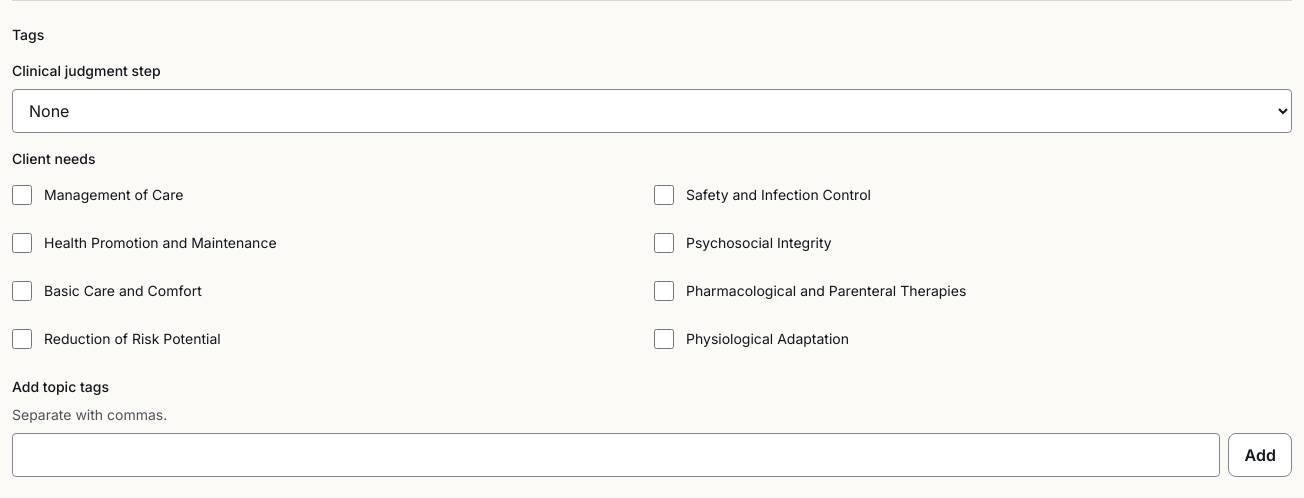
Test: TagFields › files a typed client need under client needs, in its fixed spelling
Type "physiological adaptation" into the field labelled "Add topic tags" at (616, 455), box x1=12 y1=433 x2=1220 y2=477
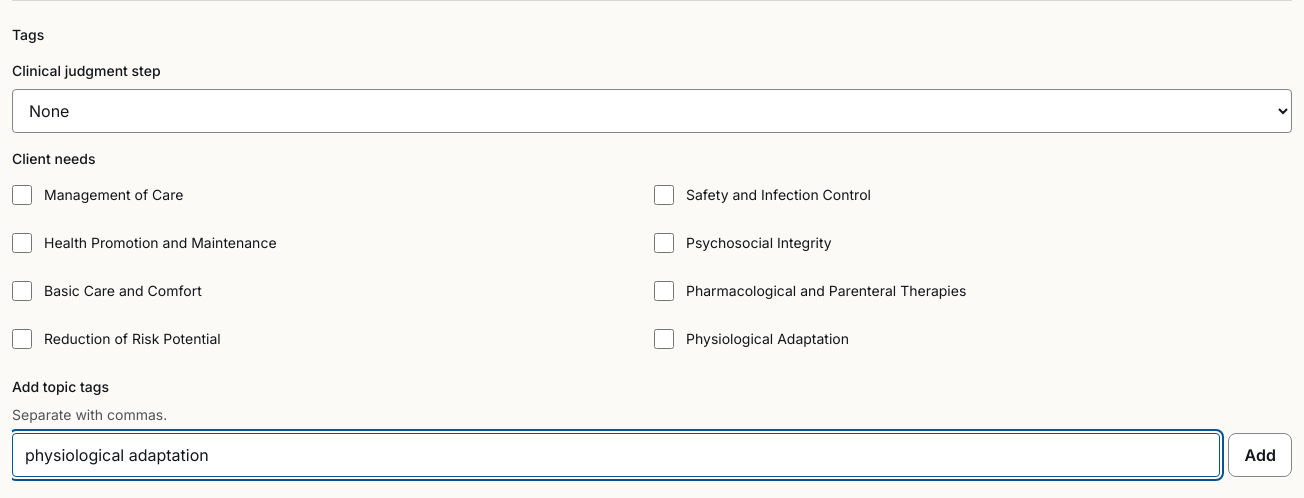
Click the button "Add" at (1260, 455), box x1=1228 y1=433 x2=1292 y2=477
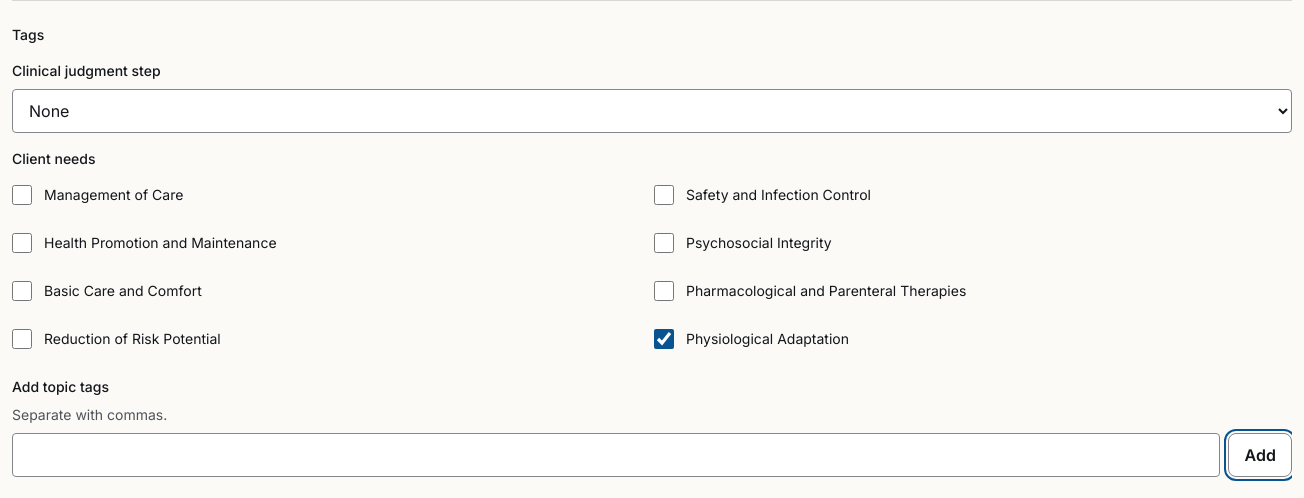
Result: the checkbox labelled "Physiological Adaptation" is checked at x1=654 y1=329 x2=674 y2=349
